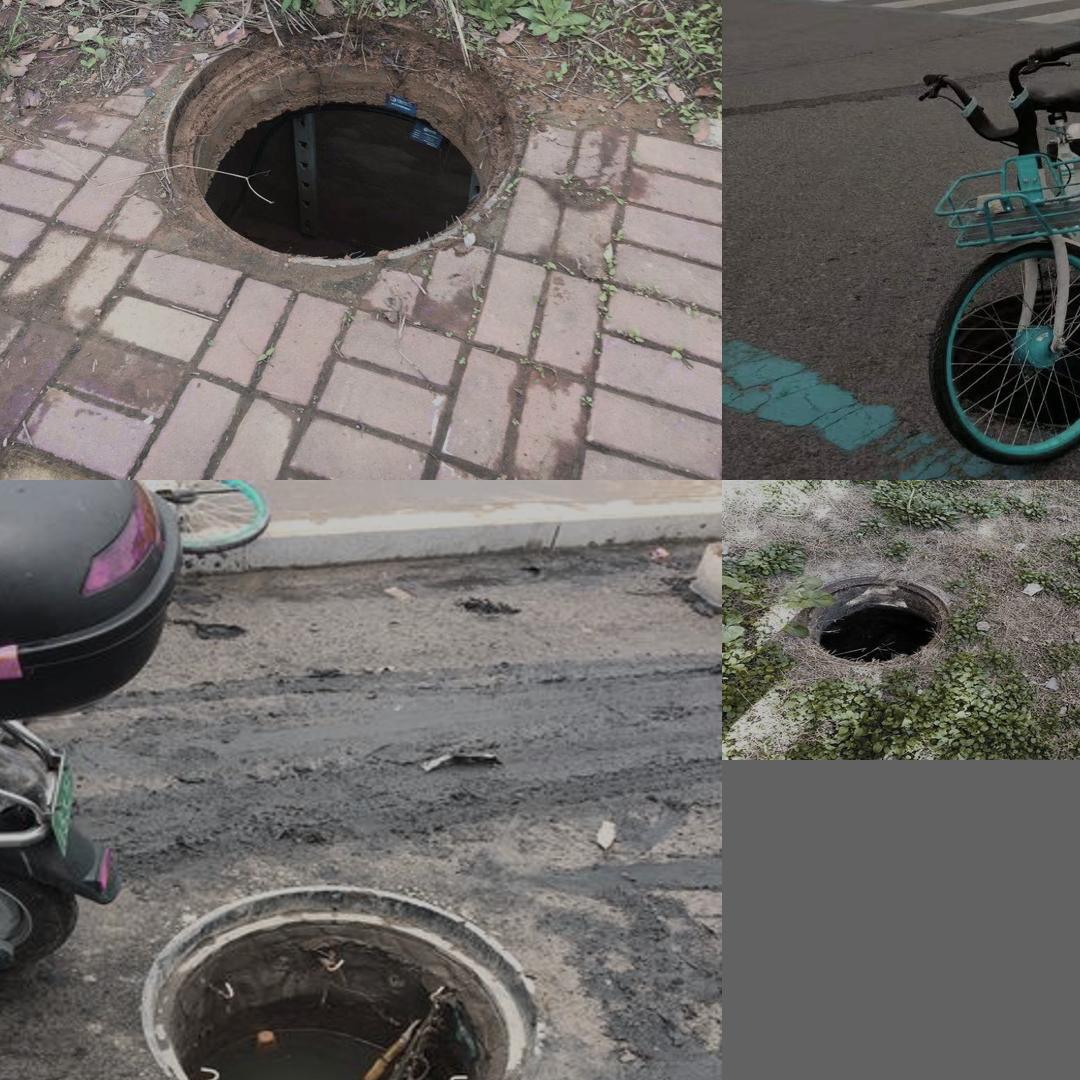lose: (164, 14, 526, 265), (135, 875, 573, 1080), (939, 277, 1080, 437), (768, 566, 962, 681)
